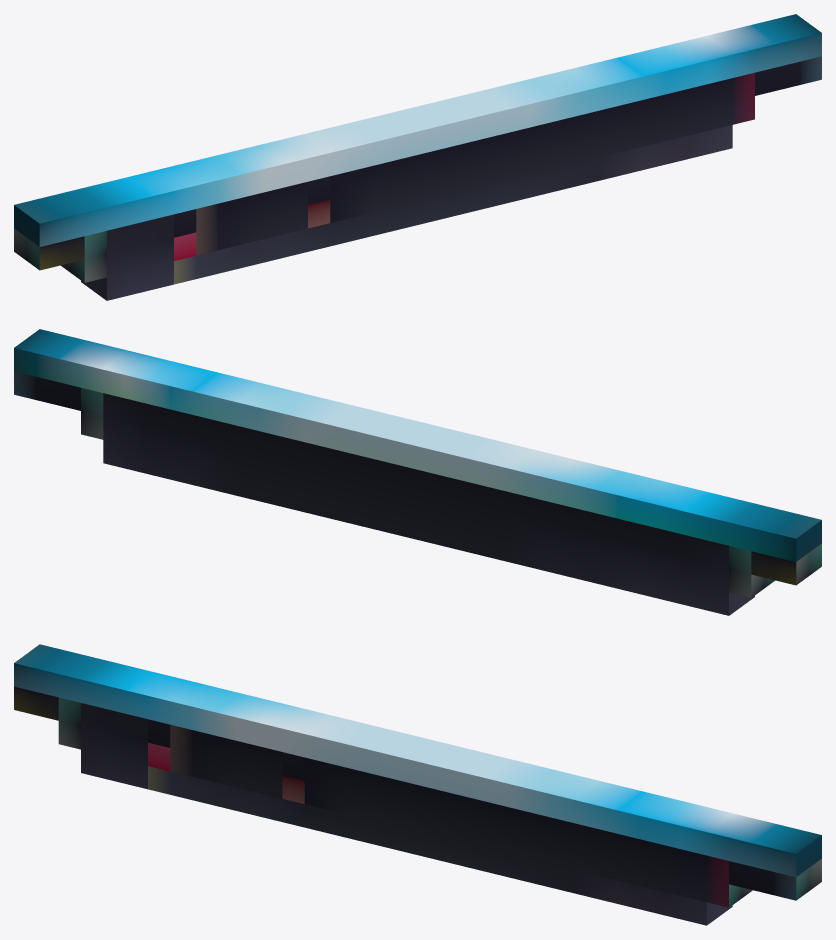
Rendered from Neon_Blue_00.fbx.
3 renders of one model, top to bottom at view 1: azimuth 30°, elevation 25°; view 2: azimuth 150°, elevation 25°; view 3: azimuth 330°, elevation 25°, orthographic.
Parts seen in each view (by area): view 1: Neon_Blue_00; view 2: Neon_Blue_00; view 3: Neon_Blue_00.
Part boxes in pixels (bbox=[...]): Neon_Blue_00: bbox=[14, 14, 821, 300]; Neon_Blue_00: bbox=[14, 329, 821, 615]; Neon_Blue_00: bbox=[14, 644, 821, 925].
Bounding box in the file's own units: 175 × 20 × 10.
